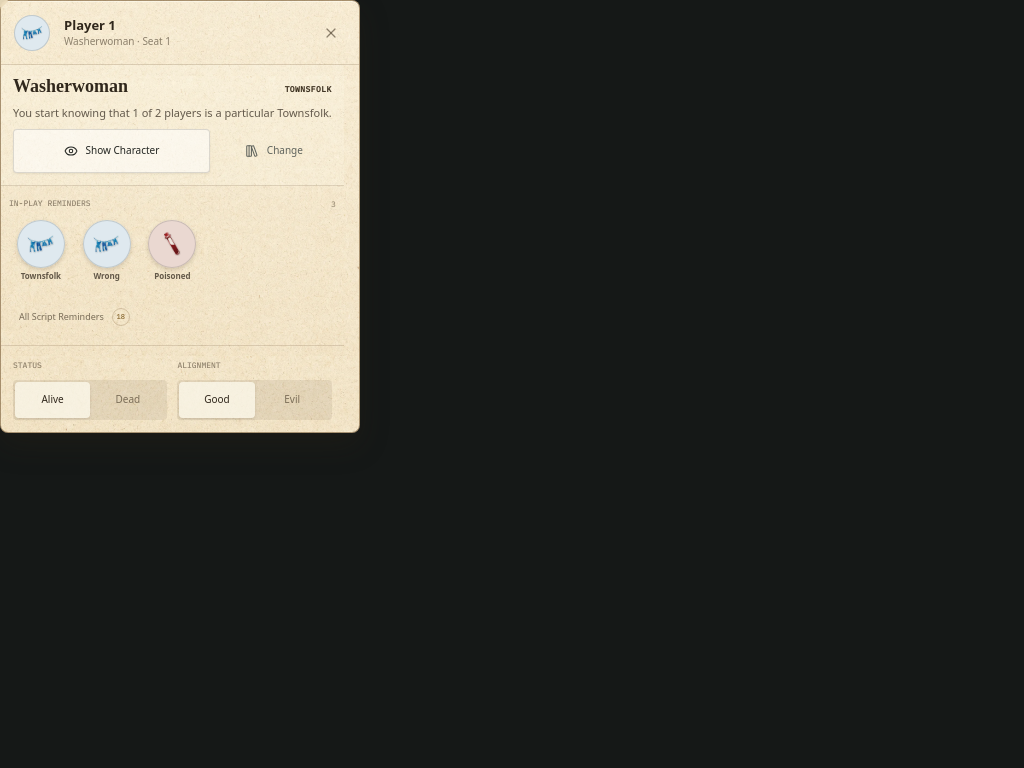
Scenario: PlayerContextMenu › keeps the complete script catalog one level away
This screenshot has width=1024, height=768.
Click the button "All Script Reminders 18": [61, 316] box [9, 297, 336, 337]
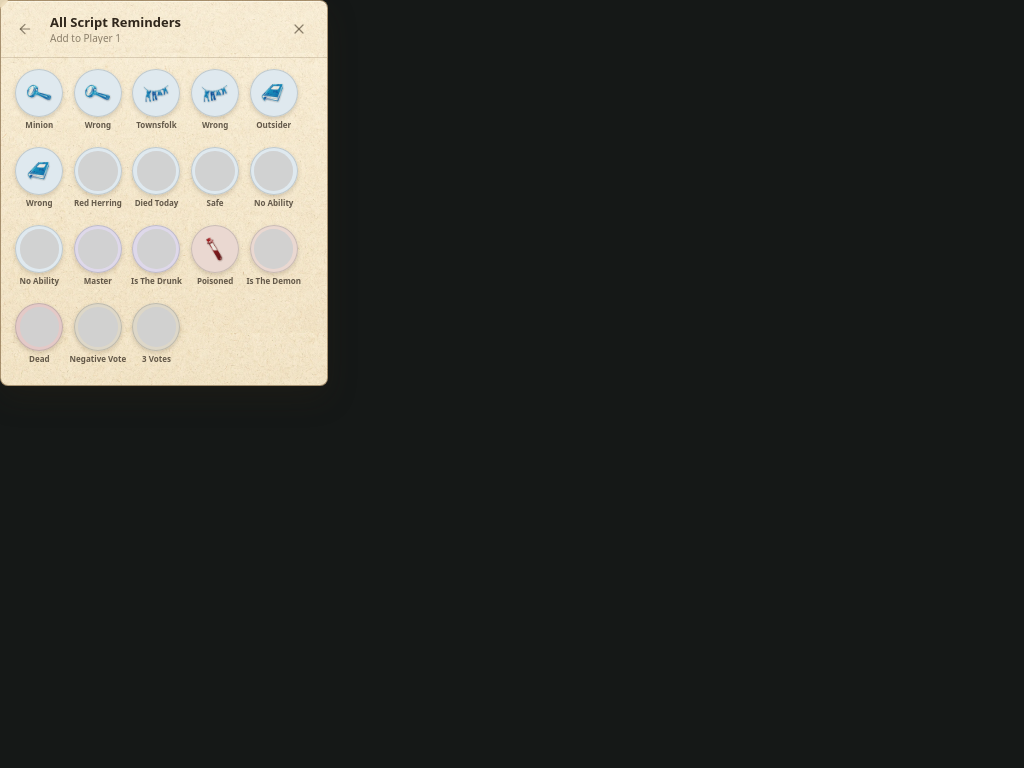
Expected: the text "All Script Reminders" is shown, [50, 13, 181, 31]
Expected: the button named "Back" is shown, [9, 13, 41, 45]
